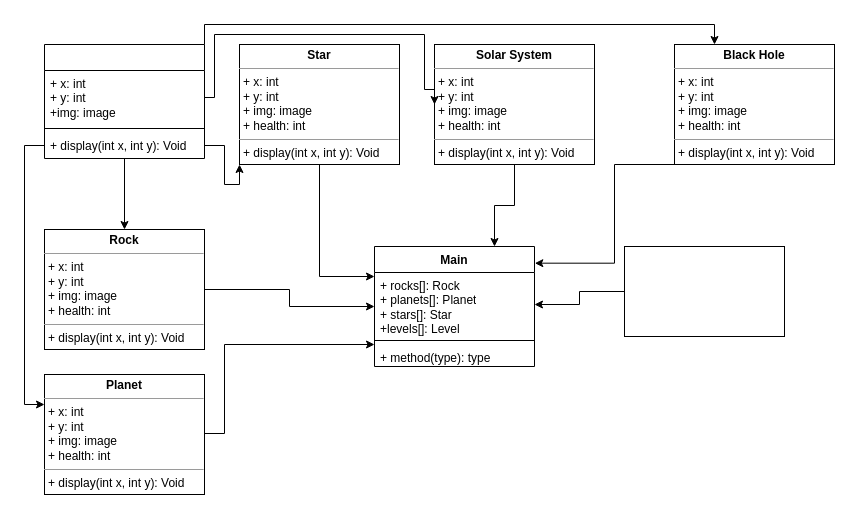
Some shapes in this 852 by 512 pixel diagram are drawn without their labels. The box of each missing label's shape, as (x1, y1, x2, y2) in pixels:
Button: (44, 44, 204, 158)
Level + health multiplier: int +pebble multiplier: int + method(): Type: (624, 246, 784, 336)
